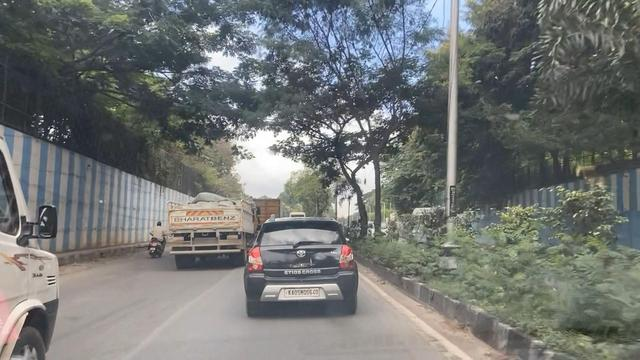HMV: (0, 118, 72, 360), (167, 178, 257, 277)
LMV: (236, 203, 377, 331), (148, 217, 172, 264)
